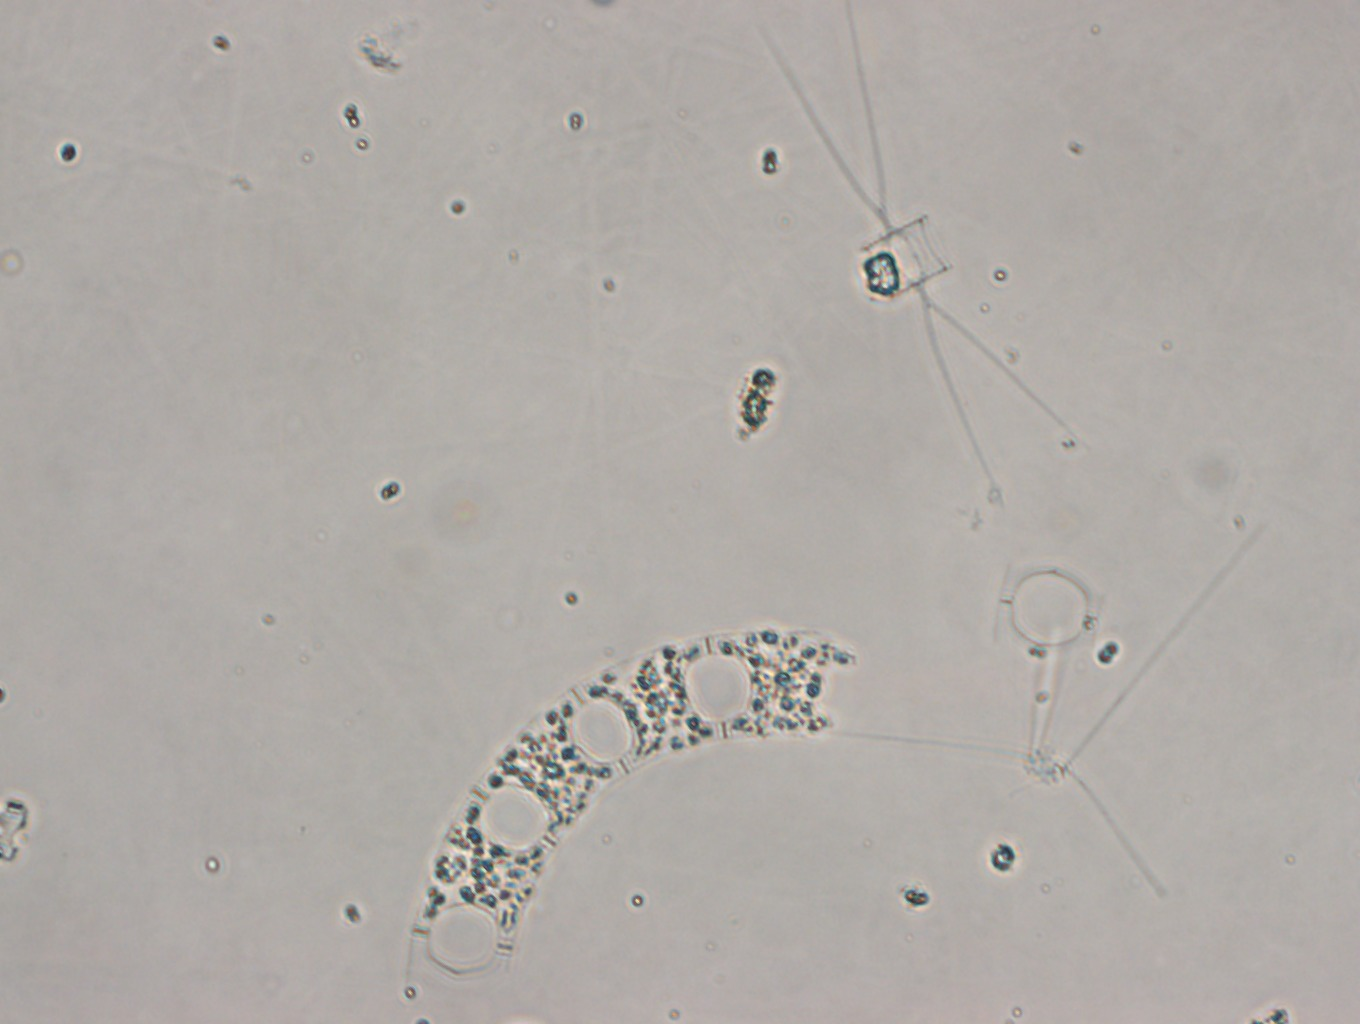chaetoceros: (755, 11, 1054, 484)
eucampia: (393, 621, 851, 980)
